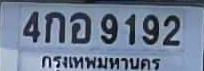1: (124, 12, 135, 44)
2: (162, 14, 179, 45)
4: (22, 10, 39, 42)
9: (100, 12, 117, 42), (142, 14, 158, 44)
A01: (44, 11, 64, 42)
A43: (69, 12, 90, 42)
BKK: (39, 53, 165, 71)
